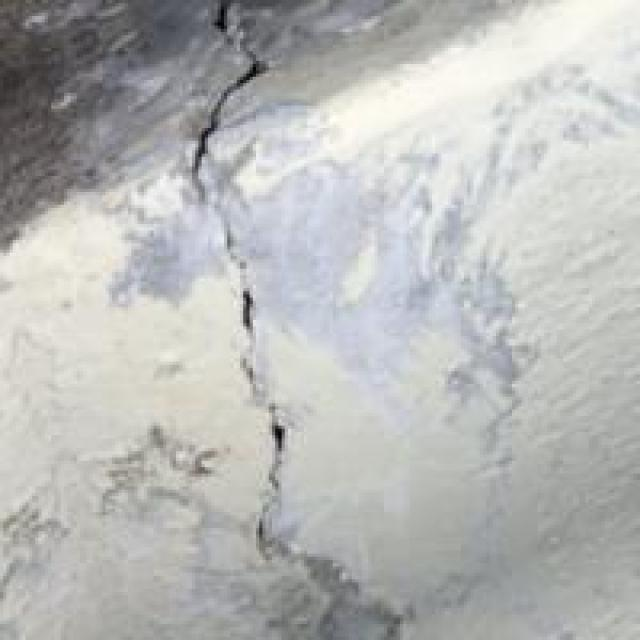Crack: (125, 0, 387, 637)
